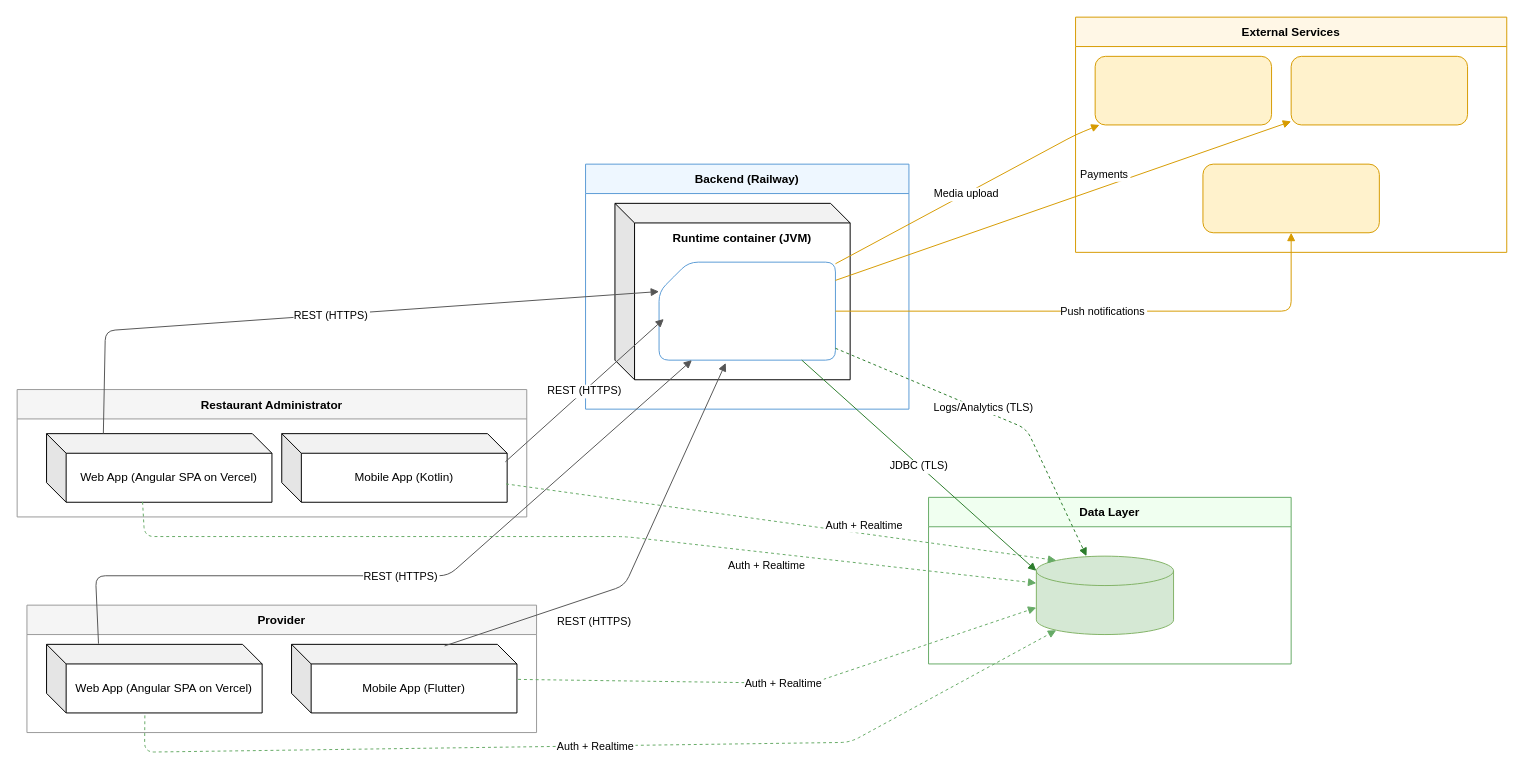
Image size: 1524x777. Some labels were removed from this diagram. The centre of each missing label's shape, as x and y in pixels:
"Cloudinary (Media Storage/CDN)" goes at point 1183,90.
"MongoDB Atlas Logs / Flexible Catalog" goes at point 1104,595.
"OneSignal/FCM (Notificaciones Push)" goes at point 1290,198.
"Stripe (Payments)" goes at point 1379,90.
"«artifact» API REST - Spring Boot" goes at point 746,310.
